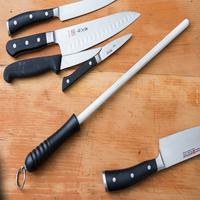knife: (3, 1, 137, 92), (100, 125, 199, 194)
